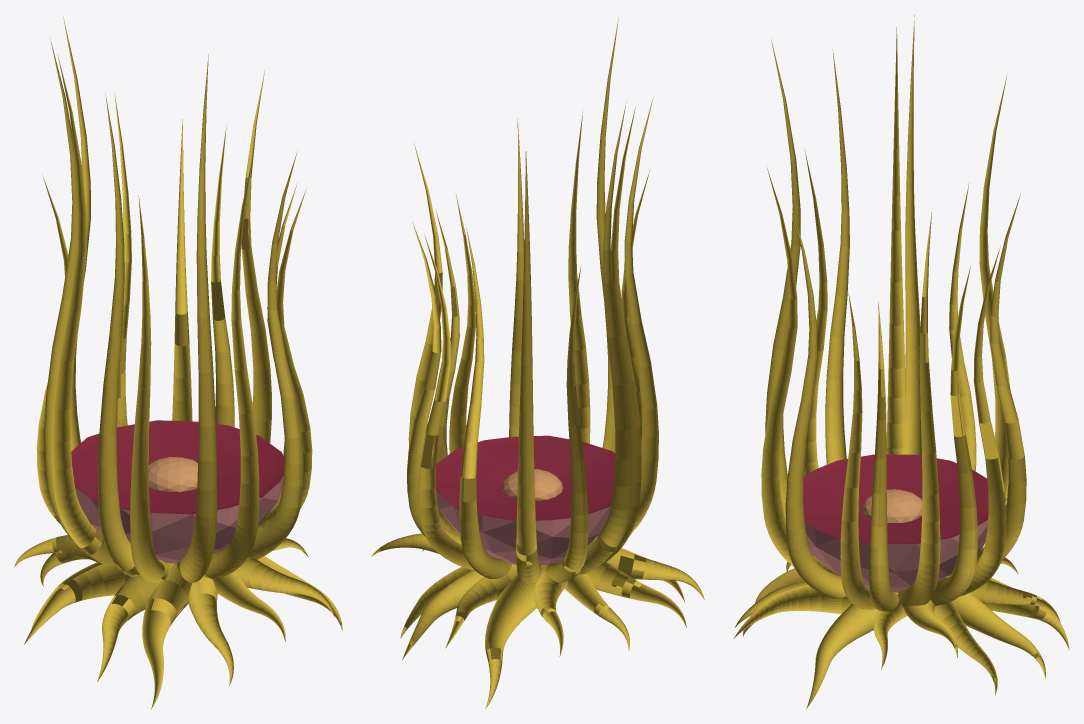
The model's file is Flora_Slings2.fbx.
3 renders of one model, left to right at view 1: azimuth 30°, elevation 25°; view 2: azimuth 150°, elevation 25°; view 3: azimuth 270°, elevation 25°, orthographic. The views are drawn at different scales.
Parts seen in each view (by area): view 1: Upper_Tentacles, Lower_Tentacles, Inner, Flora1, Center; view 2: Upper_Tentacles, Lower_Tentacles, Inner, Flora1, Center; view 3: Upper_Tentacles, Lower_Tentacles, Inner, Flora1, Center.
Boxes of the visible parts, left/top/right/bottom form: Upper_Tentacles: left=36, top=17, right=312, bottom=582; Lower_Tentacles: left=14, top=535, right=342, bottom=709; Inner: left=71, top=420, right=284, bottom=514; Flora1: left=75, top=476, right=283, bottom=563; Center: left=148, top=456, right=197, bottom=492; Upper_Tentacles: left=407, top=18, right=658, bottom=583; Lower_Tentacles: left=371, top=533, right=704, bottom=708; Inner: left=435, top=435, right=615, bottom=521; Flora1: left=436, top=490, right=610, bottom=564; Center: left=501, top=469, right=562, bottom=500; Upper_Tentacles: left=761, top=15, right=1026, bottom=611; Lower_Tentacles: left=734, top=557, right=1069, bottom=708; Inner: left=803, top=454, right=988, bottom=543; Flora1: left=805, top=520, right=987, bottom=592; Center: left=862, top=489, right=922, bottom=522.
Bounding box in the file's own units: 237 × 482 × 237.
